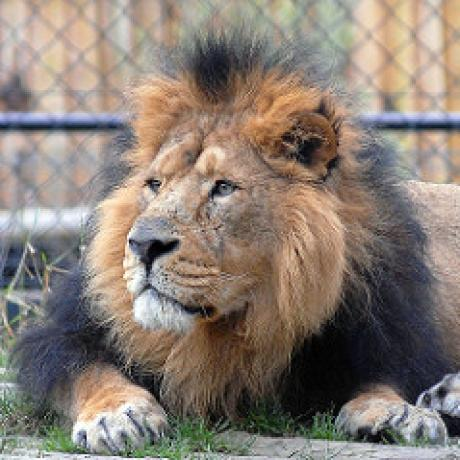Lion: (25, 25, 460, 460)
